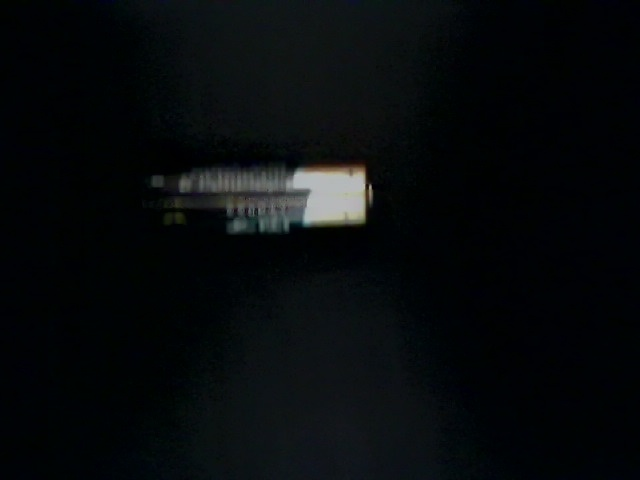YHLJ: (126, 269, 385, 369)
